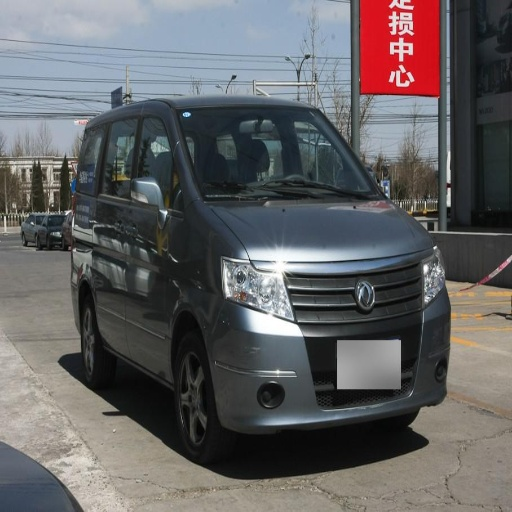front_bumper: (206, 251, 446, 427)
front_right_door: (128, 109, 184, 366)
front_right_light: (218, 255, 293, 321)
hood: (206, 198, 432, 306)
